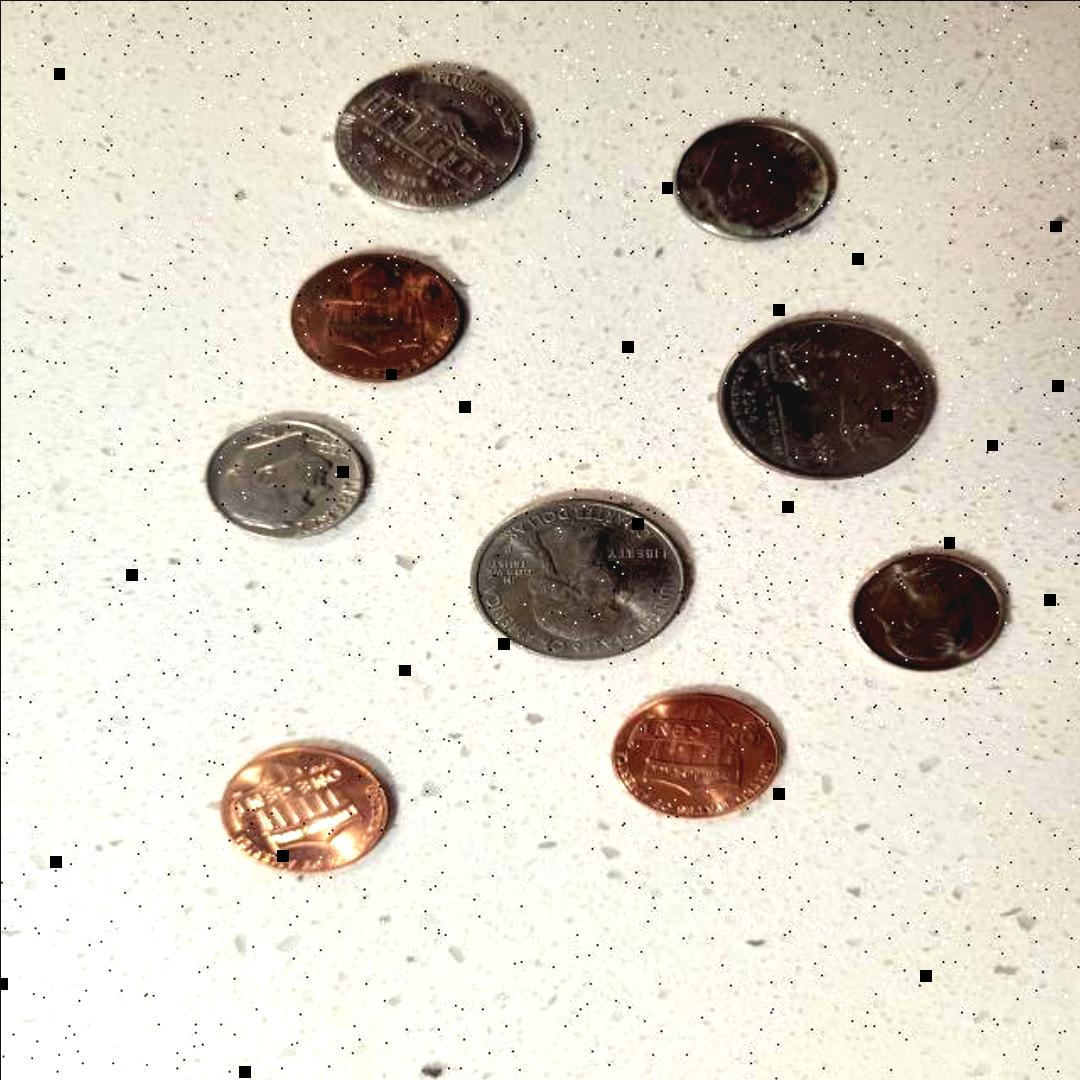Dime: (193, 409, 393, 547), (660, 113, 842, 251), (846, 546, 1018, 674)
Nickel: (323, 58, 545, 224)
Penny: (595, 686, 807, 838), (275, 247, 479, 393), (202, 730, 394, 882)
Quarter: (466, 483, 703, 670), (704, 306, 944, 490)
